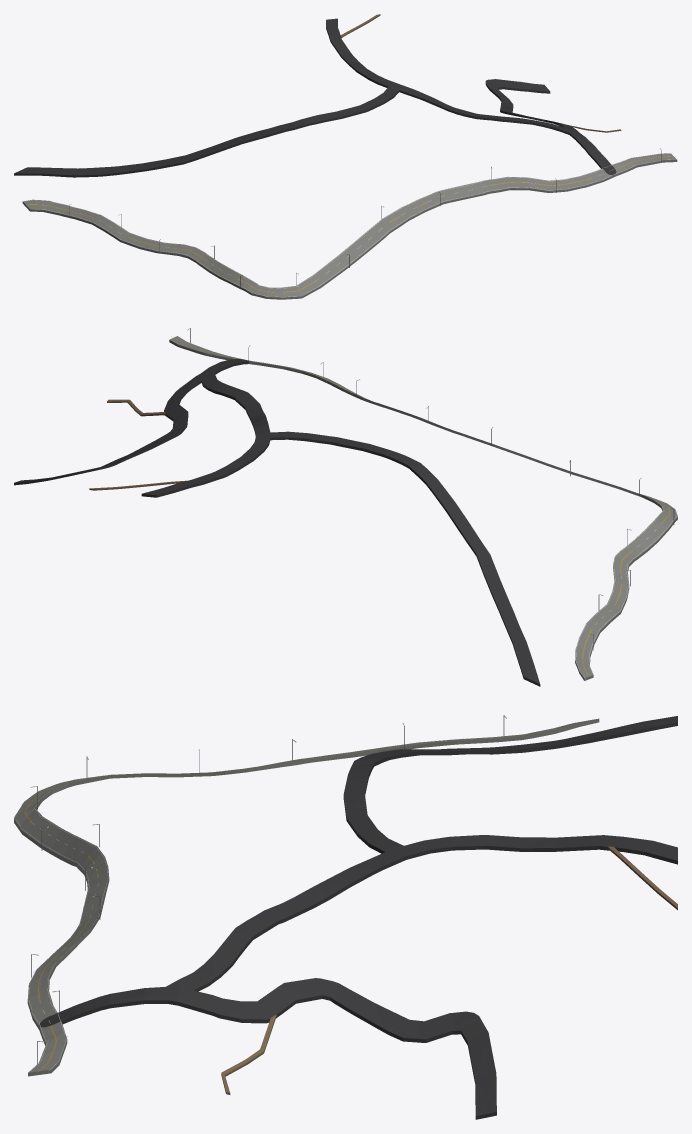
3 views of the same model, one above another, from view 1: azimuth 30°, elevation 25°; view 2: azimuth 150°, elevation 25°; view 3: azimuth 270°, elevation 25° (orthographic). The views are drawn at different scales.
Size of the model in its own units: 297 by 51.69 by 194.
